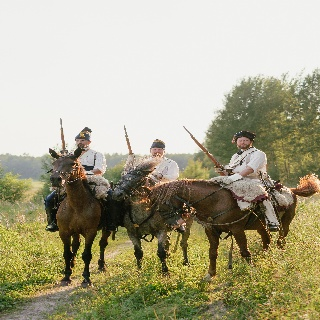rifle: (181, 124, 228, 175), (57, 116, 69, 155), (123, 123, 134, 158)
